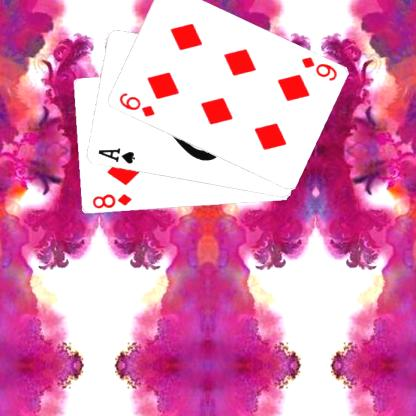6D: (116, 90, 156, 119), (299, 54, 338, 82)
8D: (89, 192, 133, 210)
AS: (95, 146, 136, 166)
